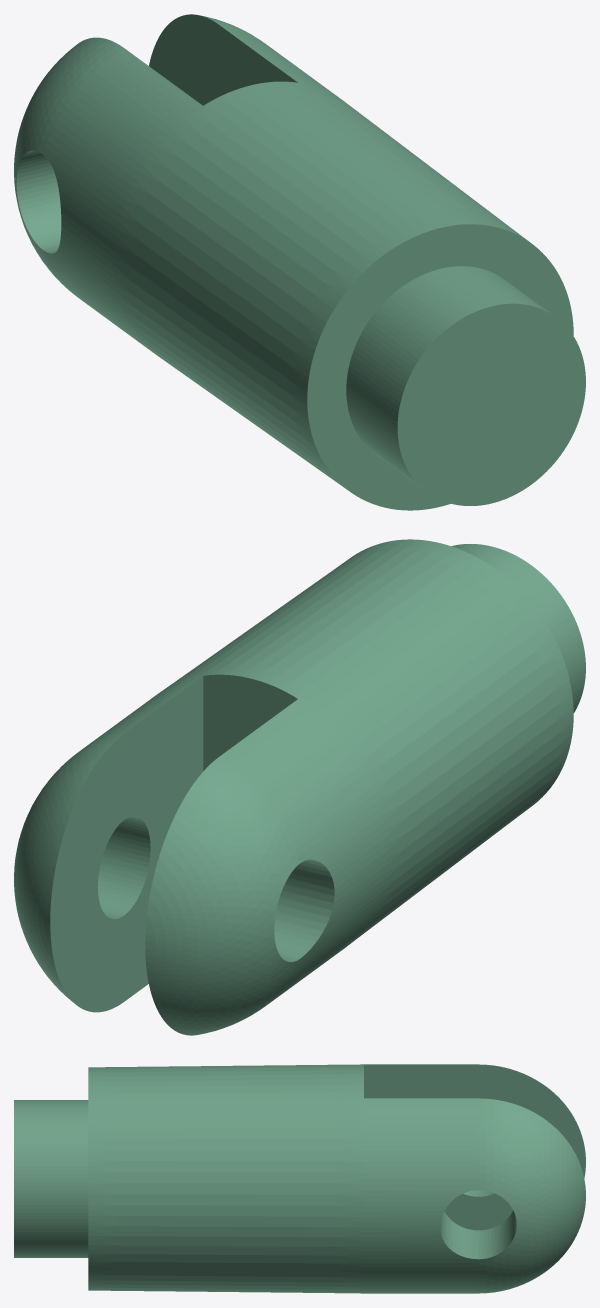
3 renders of one model, top to bottom at view 1: azimuth 30°, elevation 25°; view 2: azimuth 150°, elevation 25°; view 3: azimuth 270°, elevation 25°, orthographic. The views are drawn at different scales.
Parts seen in each view (by area): view 1: node; view 2: node; view 3: node.
Boxes of the visible parts, x1,y1,x2,y2 form: node: [14, 14, 585, 510]; node: [14, 539, 585, 1035]; node: [14, 1064, 585, 1293].
Size of the model in its own units: 0.0623 by 0.0623 by 0.1557.
